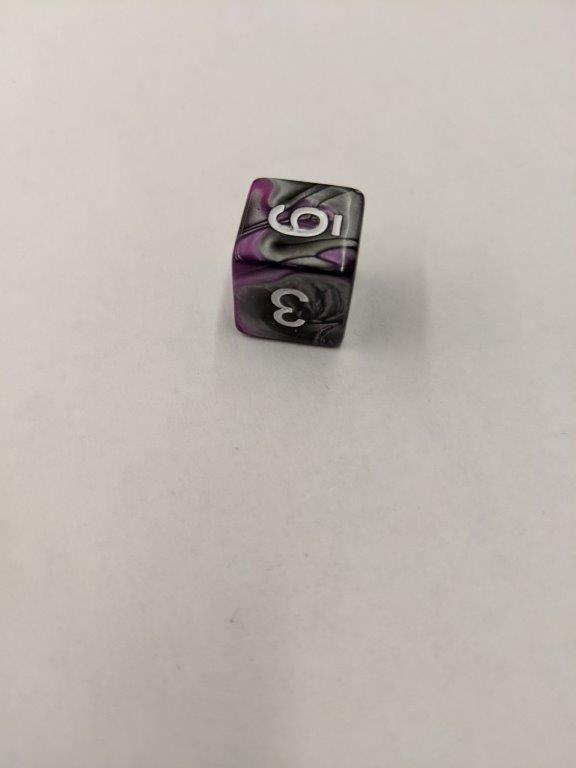d6-6: (230, 178, 366, 349)
